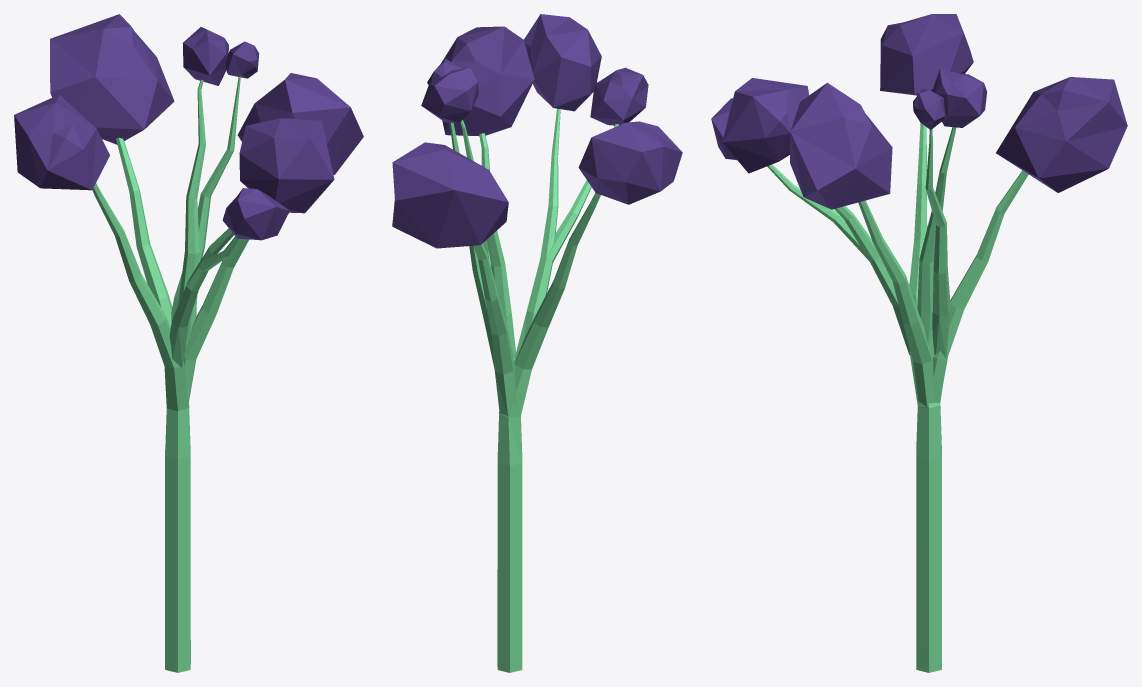
Rendered from venus_tree02_mid.obj.
3 renders of one model, left to right at view 1: azimuth 30°, elevation 25°; view 2: azimuth 150°, elevation 25°; view 3: azimuth 270°, elevation 25°, orthographic. The views are drawn at different scales.
Parts seen in each view (by area): view 1: Object.1; view 2: Object.1; view 3: Object.1.
Boxes of the visible parts, left/top/right/bottom form: Object.1: left=14, top=14, right=363, bottom=672; Object.1: left=392, top=14, right=682, bottom=672; Object.1: left=711, top=14, right=1127, bottom=672.
Size of the model in its own units: 28.46 by 57.94 by 35.56.
